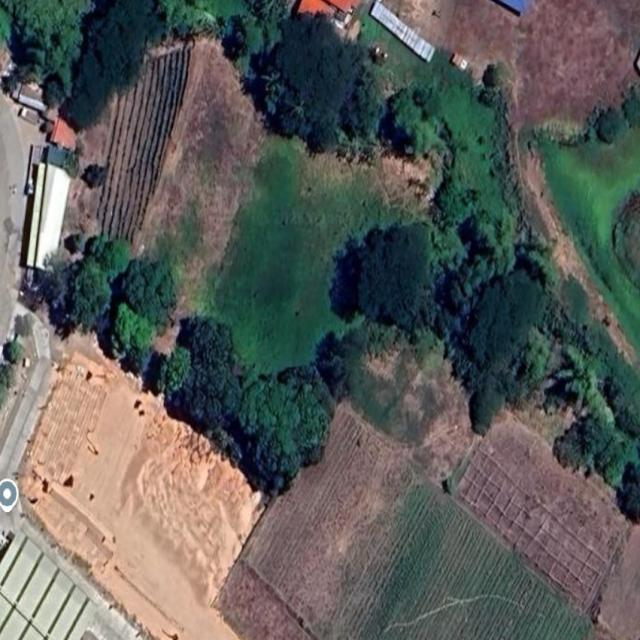Tree: (65, 0, 173, 138), (267, 12, 362, 118), (463, 264, 548, 380), (348, 222, 435, 334), (244, 372, 331, 465), (181, 316, 246, 432), (8, 2, 88, 86), (388, 84, 453, 165), (123, 253, 175, 328), (60, 259, 112, 334), (242, 440, 293, 500), (468, 371, 513, 438), (344, 76, 388, 142), (112, 303, 156, 361), (559, 344, 596, 409), (450, 259, 496, 307), (576, 406, 610, 466), (304, 110, 346, 158), (322, 328, 354, 389), (594, 436, 628, 486), (95, 234, 133, 276), (412, 76, 443, 121), (163, 346, 193, 392), (597, 106, 627, 146), (616, 469, 640, 517), (40, 76, 67, 113), (490, 58, 511, 90), (5, 338, 23, 365)
